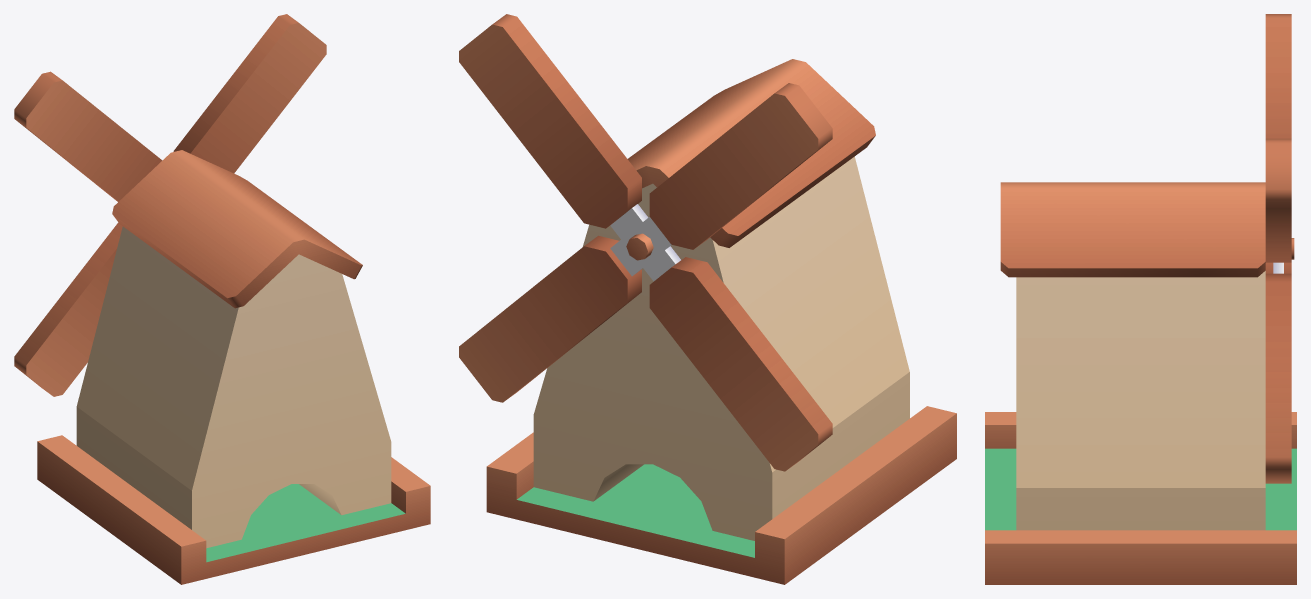
Rendered from sport_golf_windmill.glb.
3 renders of one model, left to right at view 1: azimuth 30°, elevation 25°; view 2: azimuth 150°, elevation 25°; view 3: azimuth 270°, elevation 25°, orthographic. The views are drawn at different scales.
Visible parts, largest first — view 1: windmill; view 2: windmill; view 3: windmill.
Boxes of the visible parts, <box> form: windmill: <box>14,14,430,584</box>; windmill: <box>459,14,956,584</box>; windmill: <box>985,14,1296,584</box>.
Bounding box in the file's own units: 1.2 × 1.56 × 0.9999.
Materials: 1 (1 with a texture image).
